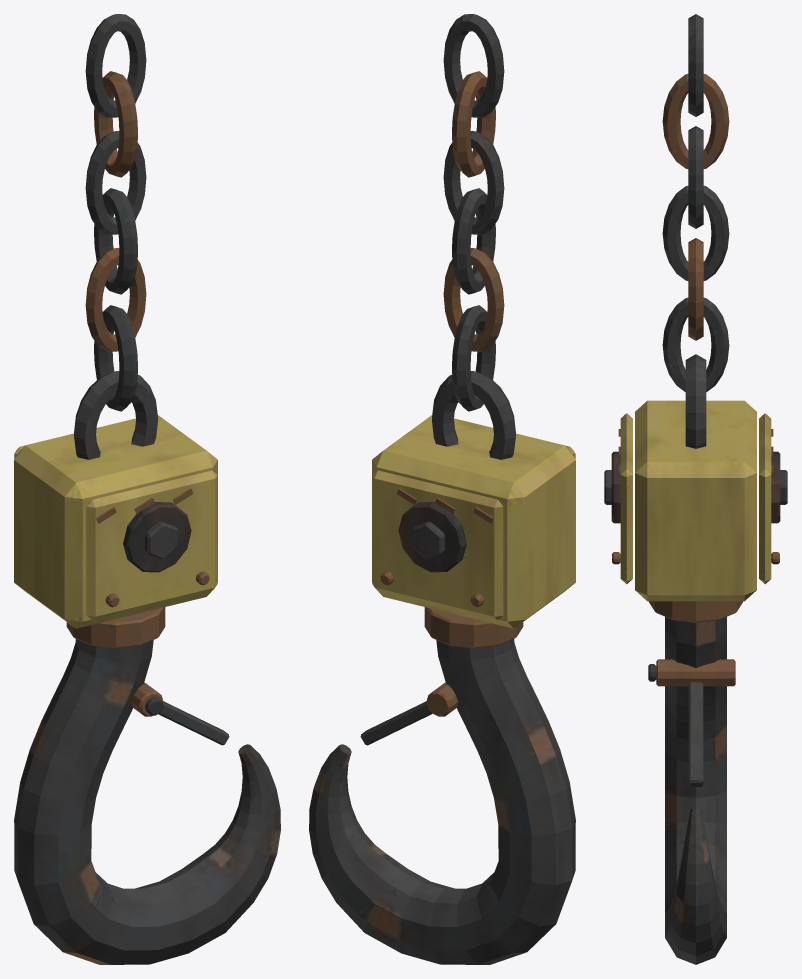
File: F43_overhead_crane_hook.glb
The picture shows the model from 3 angles, left to right: view 1: azimuth 30°, elevation 25°; view 2: azimuth 150°, elevation 25°; view 3: azimuth 270°, elevation 25°; orthographic projection. The views are drawn at different scales.
Parts seen in each view (by area): view 1: Heavy forged crane hook; view 2: Heavy forged crane hook; view 3: Heavy forged crane hook.
Part boxes in pixels (left/top/right/bottom): Heavy forged crane hook: left=14, top=14, right=280, bottom=964; Heavy forged crane hook: left=309, top=14, right=575, bottom=964; Heavy forged crane hook: left=604, top=14, right=787, bottom=964.
Size of the model in its own units: 0.5722 by 2 by 0.3637.
Materials: 5 (5 with a texture image).
